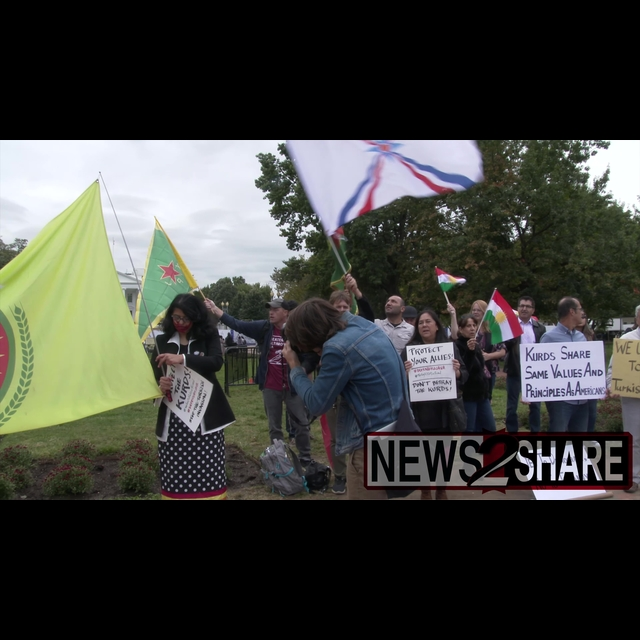YPJ: (155, 256, 188, 289)
